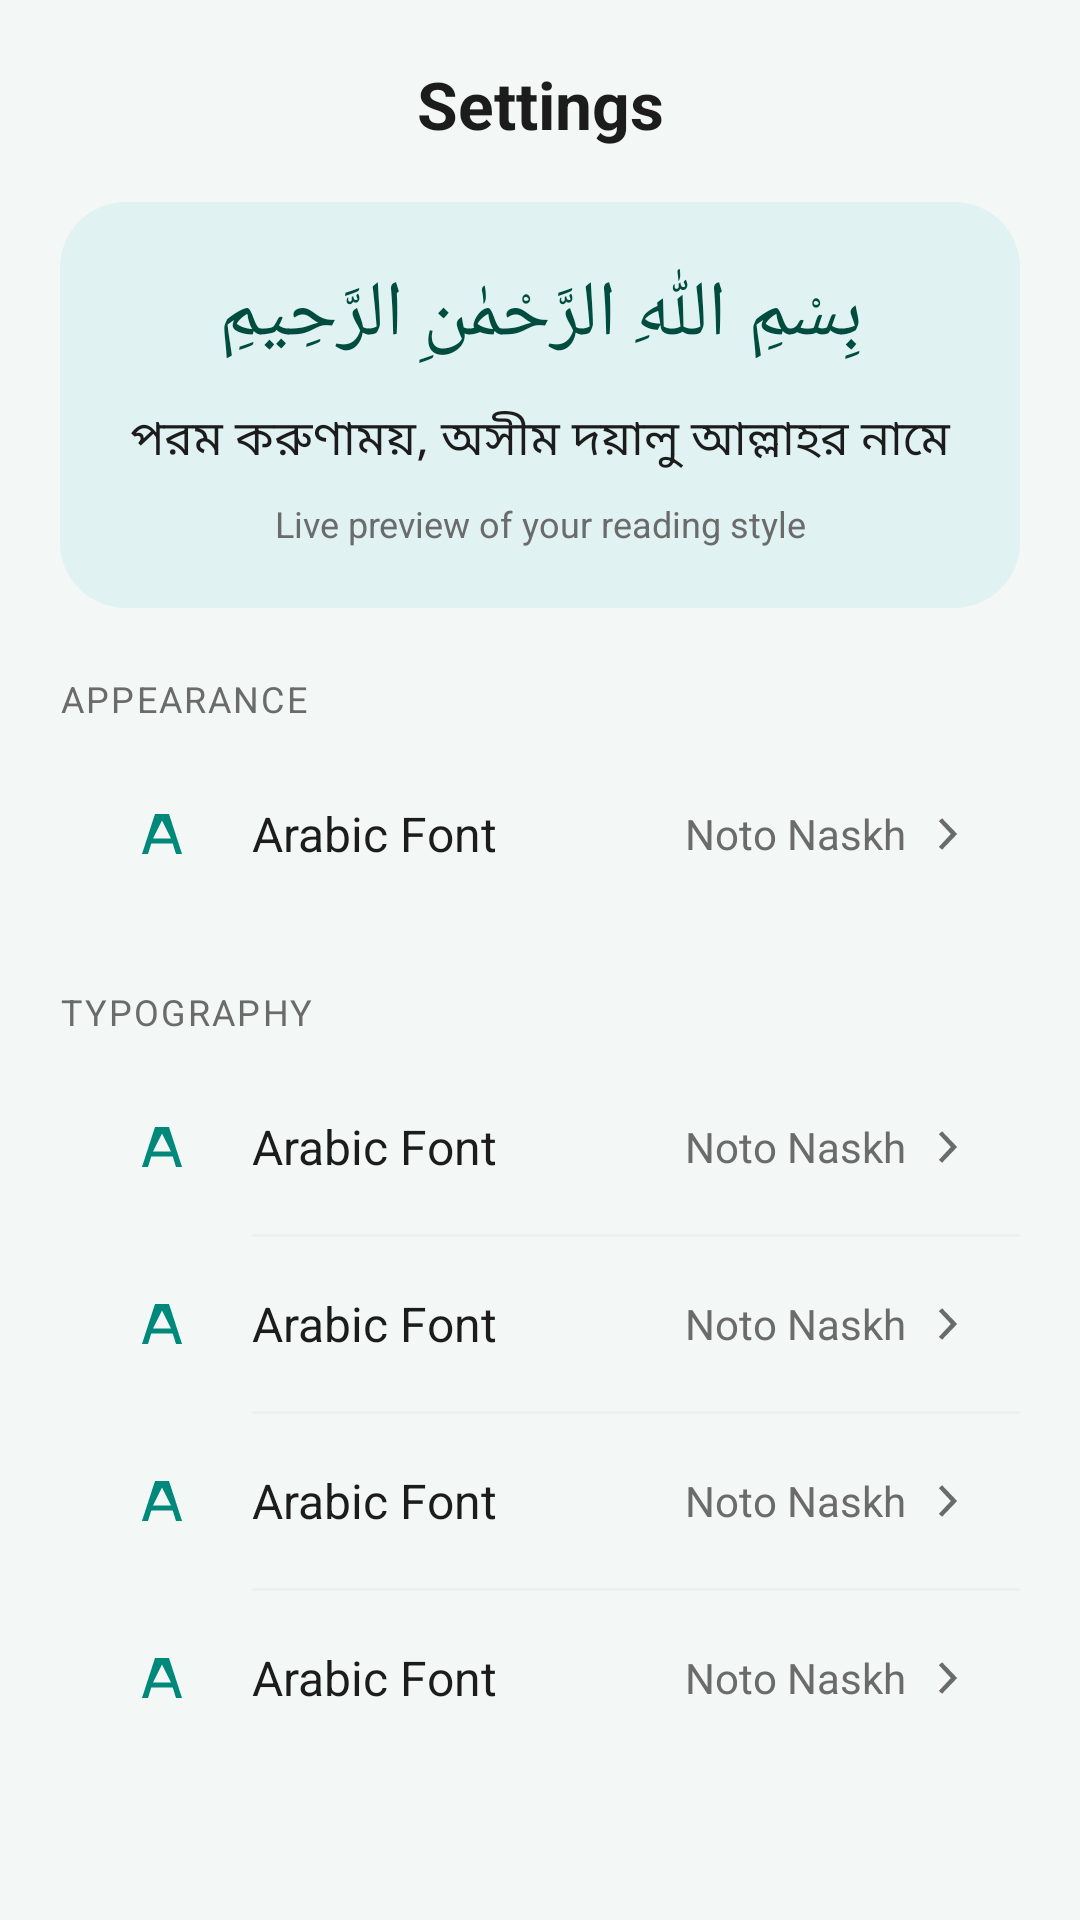

Point at icon controls on the screen. Image size 1080*1920, points as [x,y].
chevron: [948,834], [948,1147], [948,1324], [948,1501], [948,1678]
